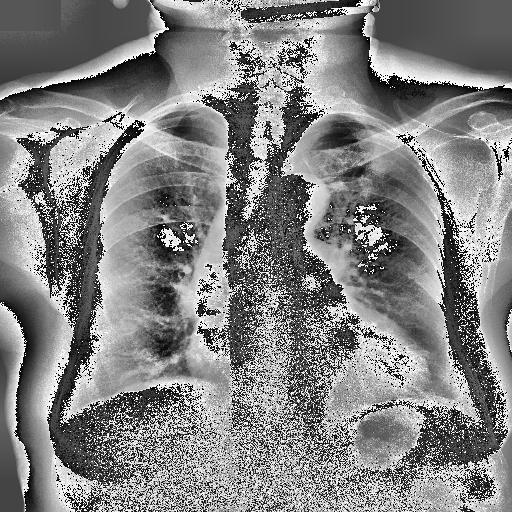0- Aortic enlargement: (264, 168, 332, 232), (262, 170, 328, 233), (268, 171, 328, 240)
3- Cardiomegaly: (184, 318, 432, 396), (184, 326, 432, 399), (183, 339, 428, 398)
